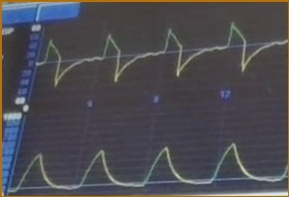Normal Flow: (37, 22, 289, 87)
Normal Volume: (8, 141, 289, 192)
